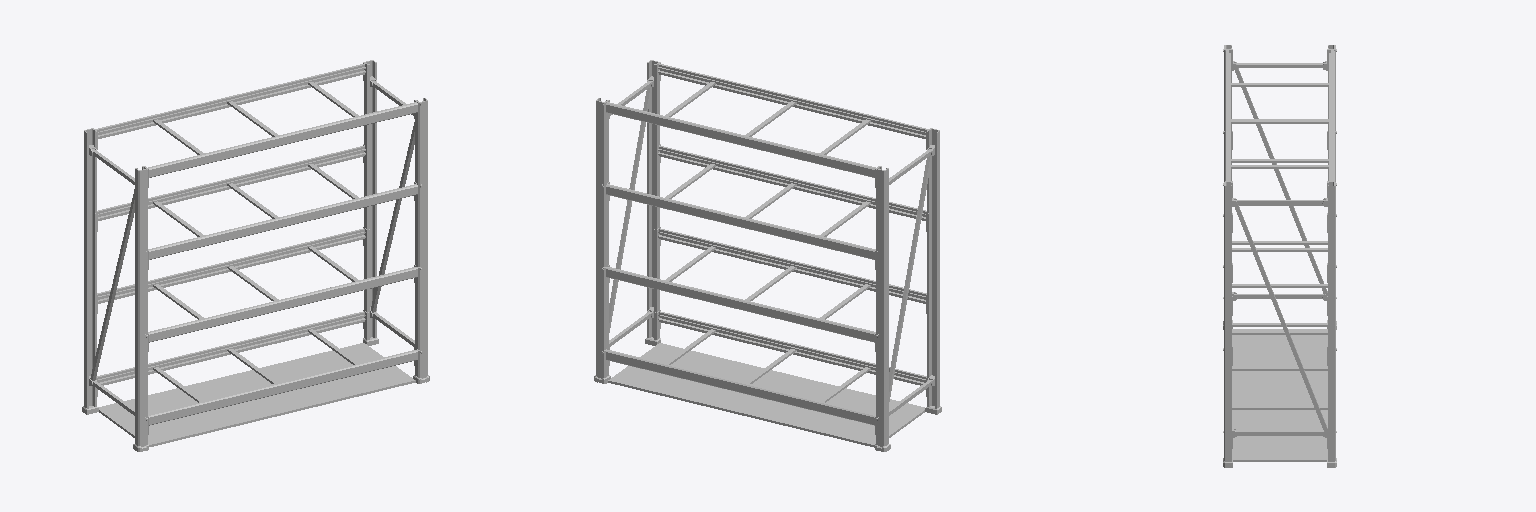
Rendered from uploads_files_2727709_SM_industrialshelf.obj.
3 views of the same model, side by side, from view 1: azimuth 30°, elevation 25°; view 2: azimuth 150°, elevation 25°; view 3: azimuth 270°, elevation 25° (orthographic).
Visible parts, largest first — view 1: SM_industrialshelf_a, SM_industrialshelf_c, SM_industrialshelf_b; view 2: SM_industrialshelf_a, SM_industrialshelf_c, SM_industrialshelf_b; view 3: SM_industrialshelf_a, SM_industrialshelf_c.
Boxes of the visible parts, box(x1,y1,x2,y2) form: SM_industrialshelf_a: box(82, 60, 429, 451); SM_industrialshelf_c: box(112, 343, 413, 444); SM_industrialshelf_b: box(98, 343, 415, 446); SM_industrialshelf_a: box(594, 60, 941, 451); SM_industrialshelf_c: box(610, 343, 924, 444); SM_industrialshelf_b: box(608, 343, 924, 447); SM_industrialshelf_a: box(1223, 45, 1336, 467); SM_industrialshelf_c: box(1232, 329, 1327, 459).
Bounding box in the file's own units: 196 × 180 × 66.06.